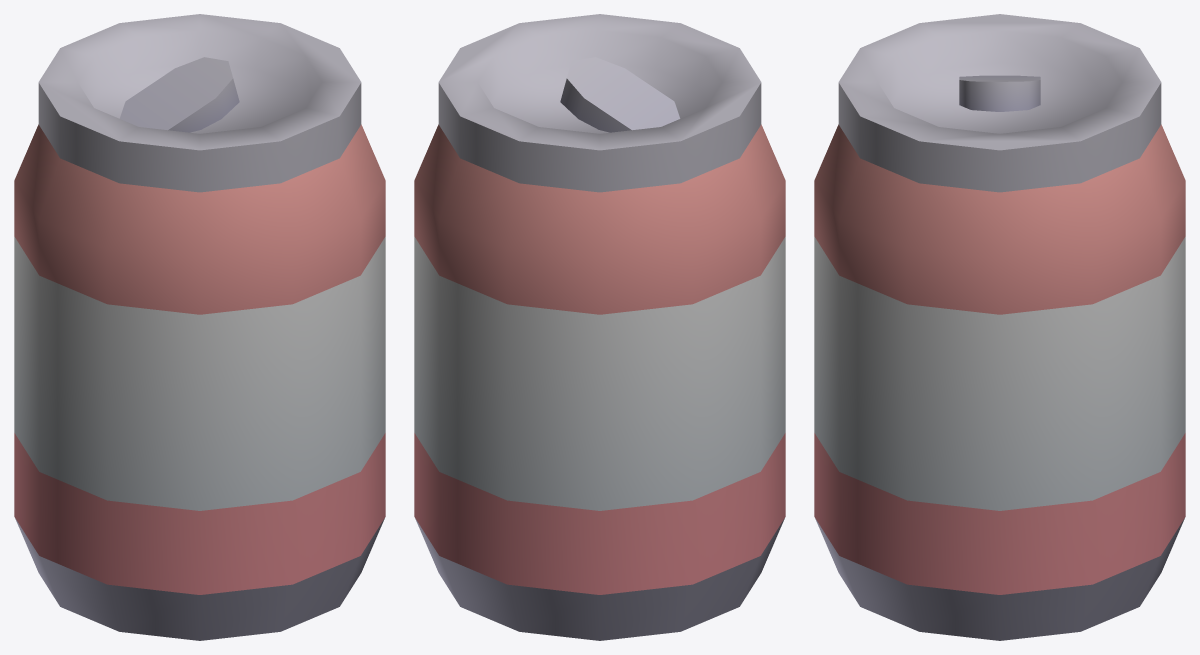
File: soda-can.glb
3 views of the same model, side by side, from view 1: azimuth 30°, elevation 25°; view 2: azimuth 150°, elevation 25°; view 3: azimuth 270°, elevation 25° (orthographic).
Parts seen in each view (by area): view 1: soda-can; view 2: soda-can; view 3: soda-can.
Boxes of the visible parts, left/top/right/bottom form: soda-can: left=14, top=14, right=385, bottom=640; soda-can: left=414, top=14, right=785, bottom=640; soda-can: left=814, top=14, right=1185, bottom=640.
Size of the model in its own units: 0.12 by 0.18 by 0.12.
